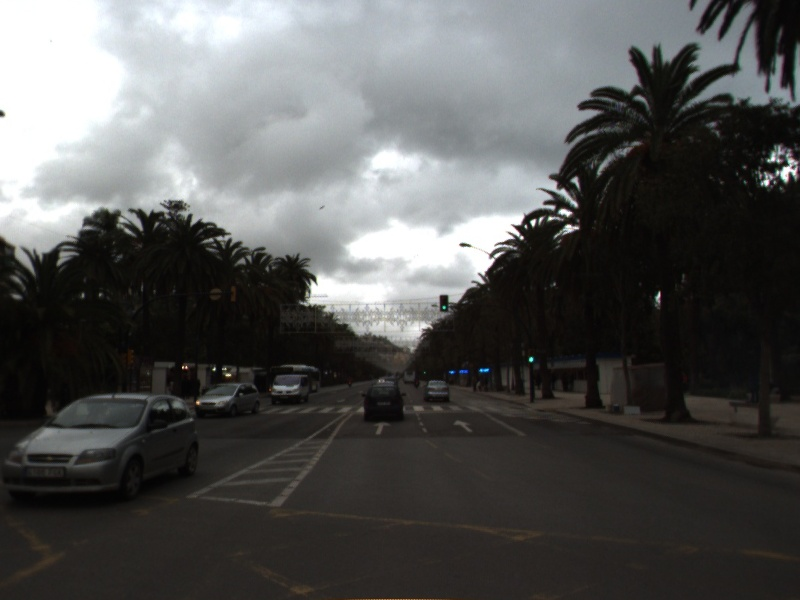STRAIGHT: (451, 418, 475, 434), (371, 420, 394, 436)
